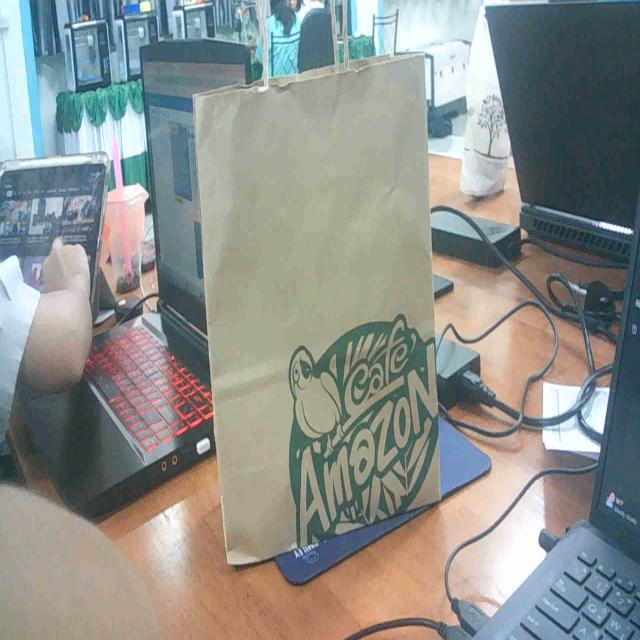bag: (184, 36, 458, 563)
